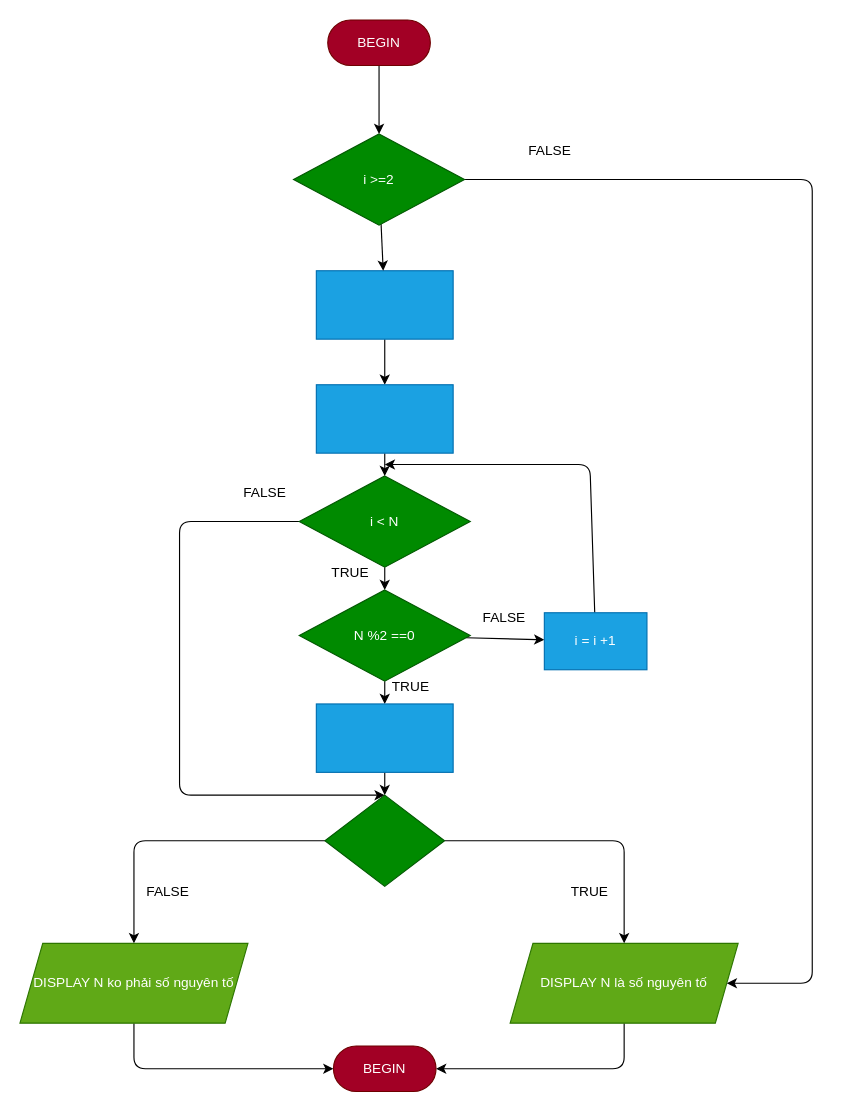
The diagram is 841 pixels wide and 1112 high, and some of its shapes have lost their labels. The box of each missing label's shape, as (x1, y1, x2, y2) in pixels:
INPUT N: (315, 270, 453, 339)
isPrime: (324, 794, 445, 886)
isPrime = false: (315, 703, 453, 772)
isPrime = true; i =2: (315, 384, 453, 453)
